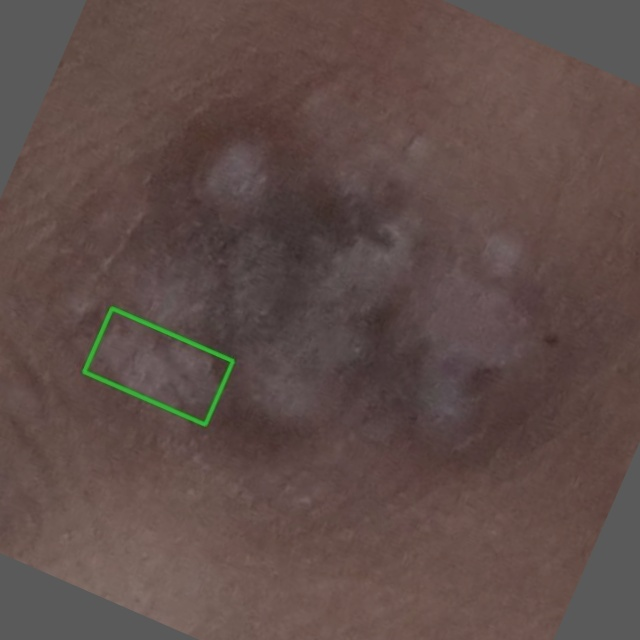Contact Dermatitis: (84, 308, 232, 424)
